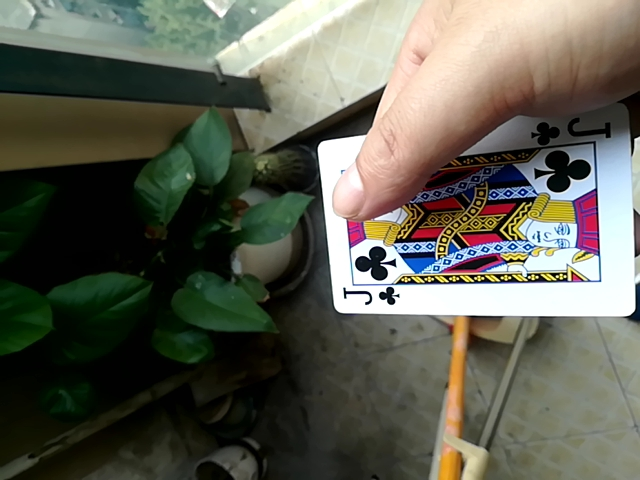mh j: (312, 108, 637, 318)
